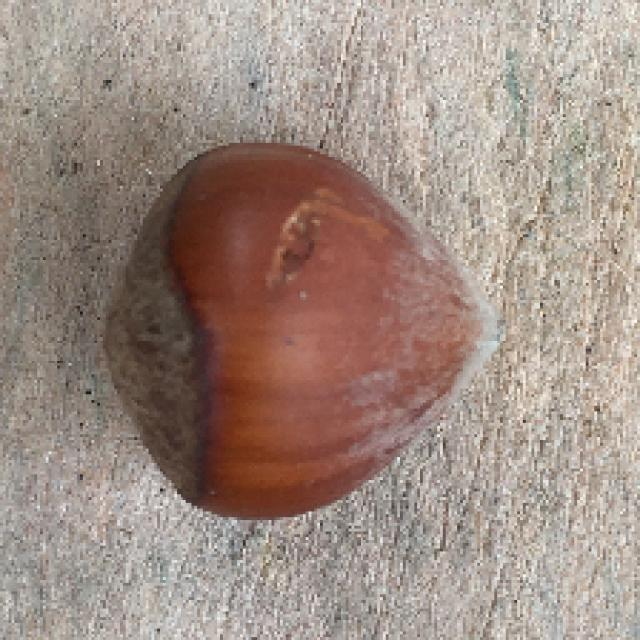QualityHazelnut: (105, 137, 506, 521)
